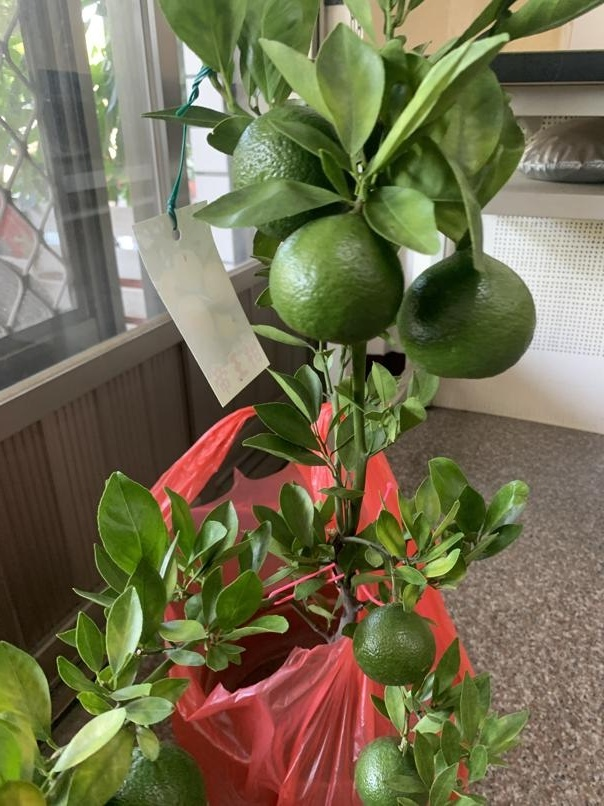Tangerine: (269, 205, 406, 343), (400, 245, 535, 380), (350, 601, 442, 687), (350, 735, 412, 803)
